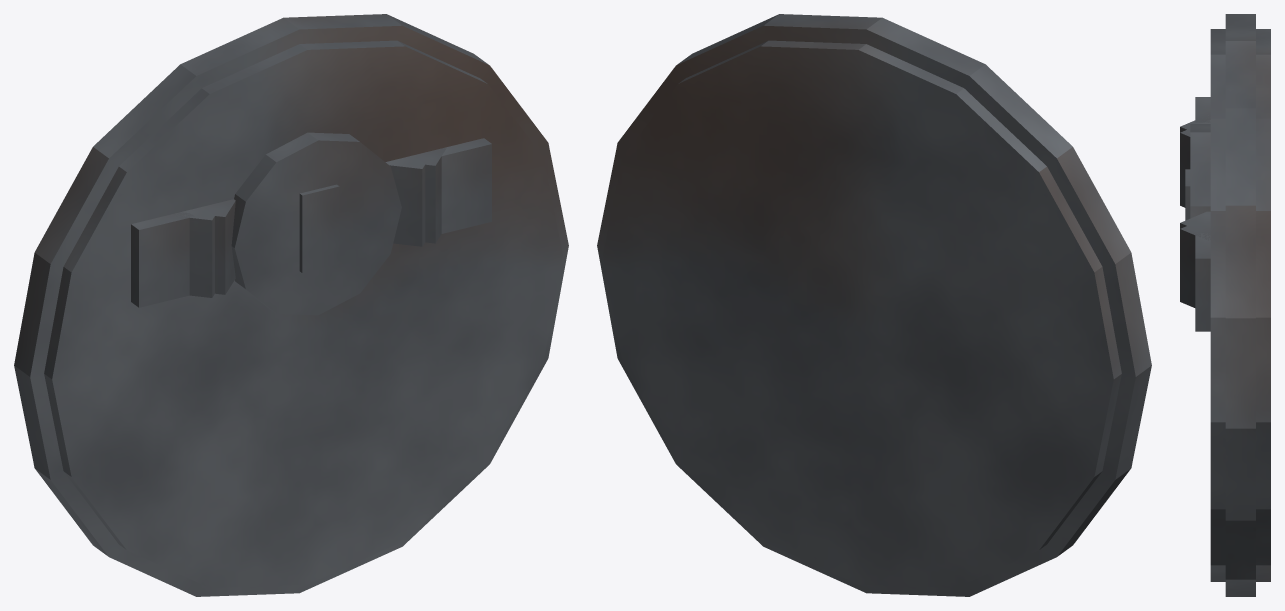
The model's file is crest_university_guild.fbx.
The picture shows the model from 3 angles, left to right: view 1: azimuth 30°, elevation 25°; view 2: azimuth 150°, elevation 25°; view 3: azimuth 270°, elevation 25°; orthographic projection. The views are drawn at different scales.
Visible parts, largest first — view 1: crest_university_guild; view 2: crest_university_guild; view 3: crest_university_guild.
Part boxes in pixels (box(x1,y1,x2,y2)): crest_university_guild: box(14, 14, 568, 596); crest_university_guild: box(597, 14, 1151, 596); crest_university_guild: box(1180, 14, 1270, 596).
Size of the model in its own units: 1.16 by 1.16 by 0.1807.
